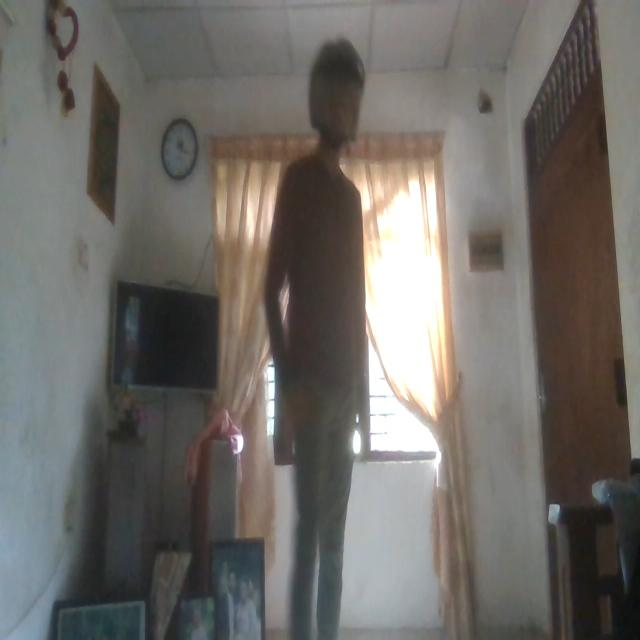Helmet_Wearer: (302, 36, 363, 154)
Person: (266, 42, 376, 640)
